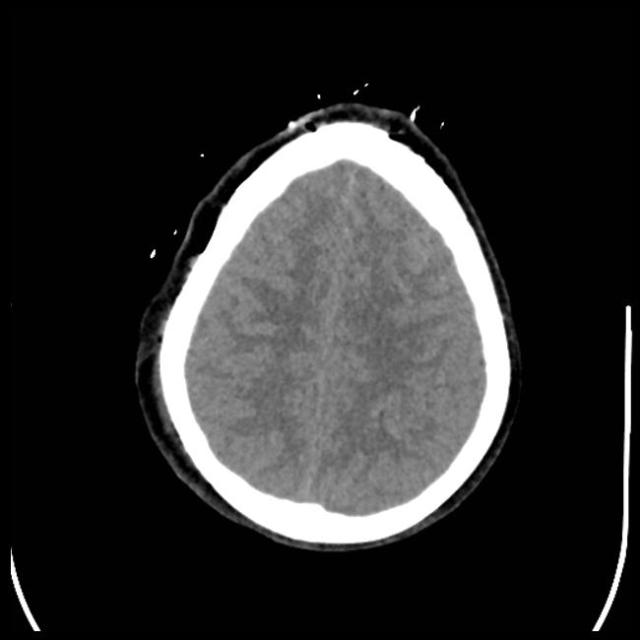lesion: (131, 98, 526, 554)
